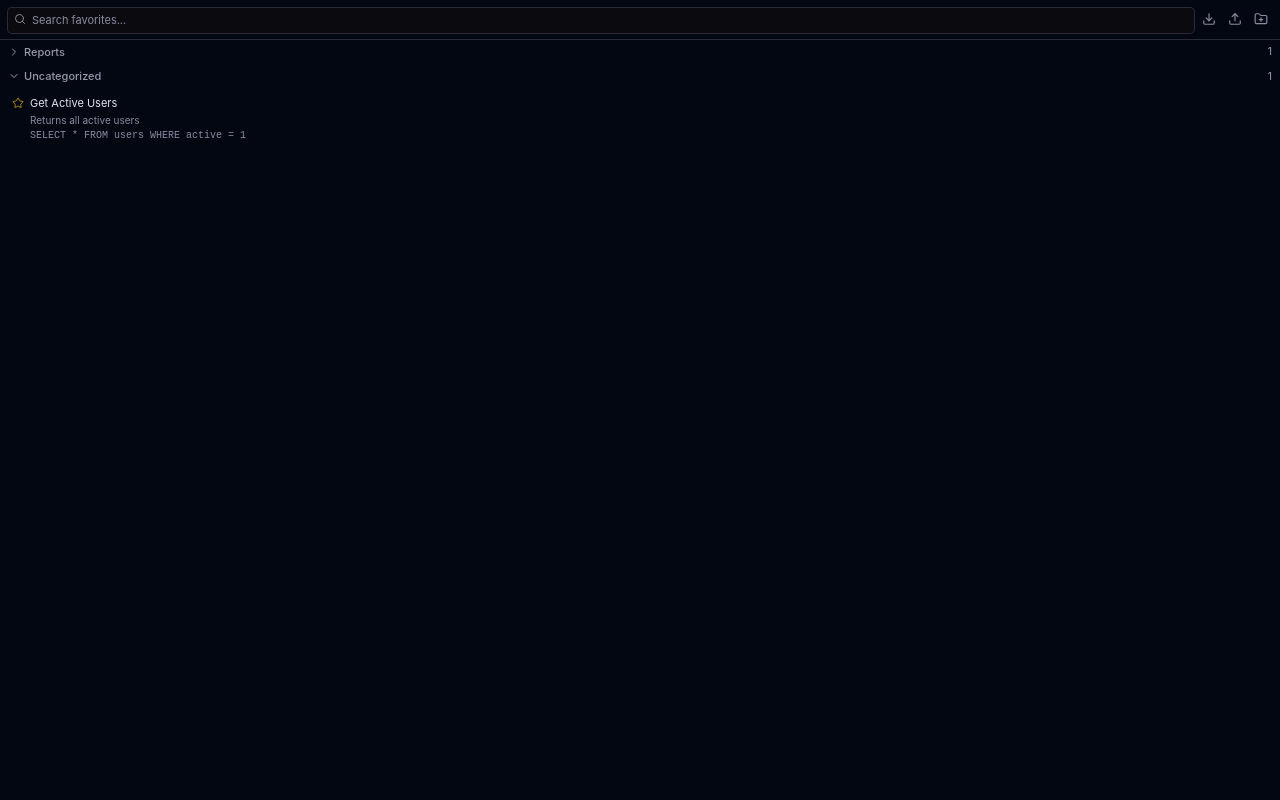
Test: QueryFavorites › confirms before replacing a dirty query tab
What coordinates should you click on to do the following:
click the text "Get Active Users"
I would click on:
 (74, 103)
Its box is [30,94,117,111].
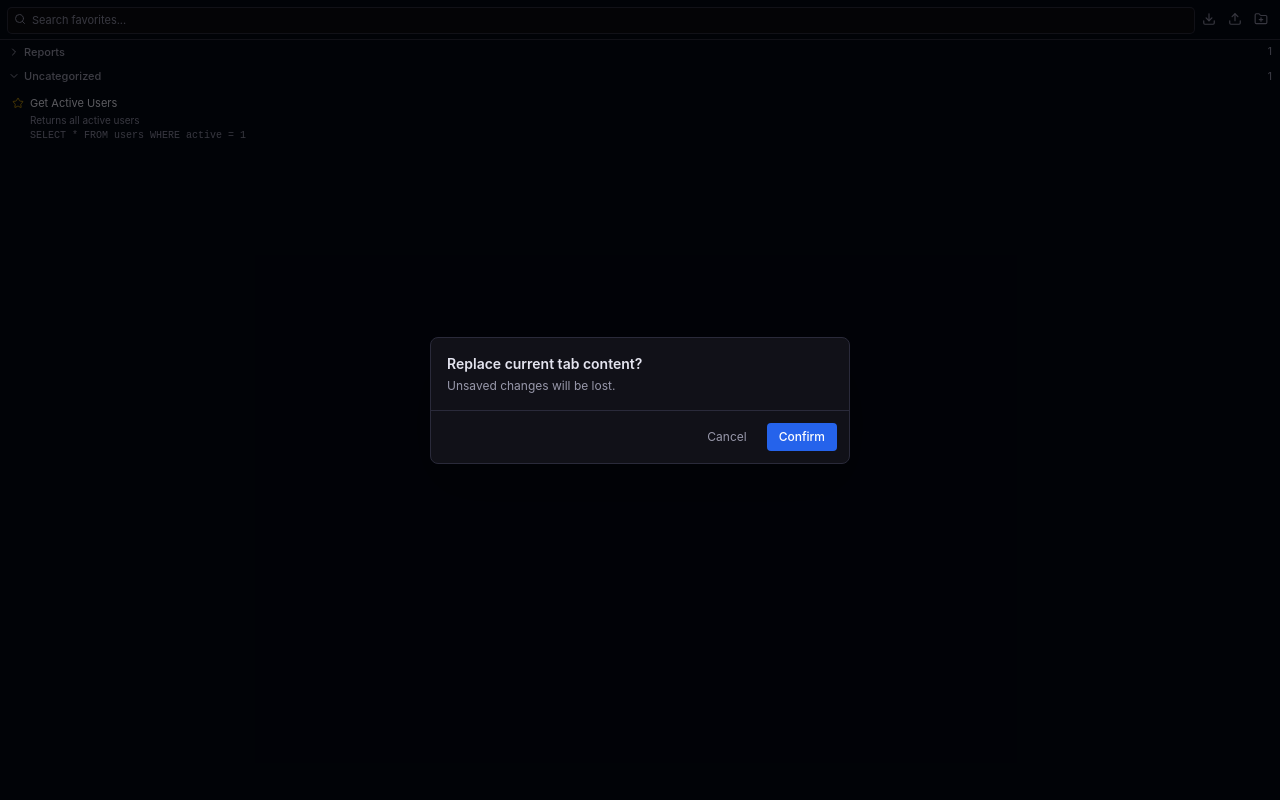
Now the heading "Replace current tab content?" is shown, box [447,354,642,372]
Now the text "Unsaved changes will be lost." is shown, box [447,378,616,392]
What coordinates should you click on to do the following:
click the button "Confirm"
I would click on:
 (802, 436)
Its box is [767,422,837,450].
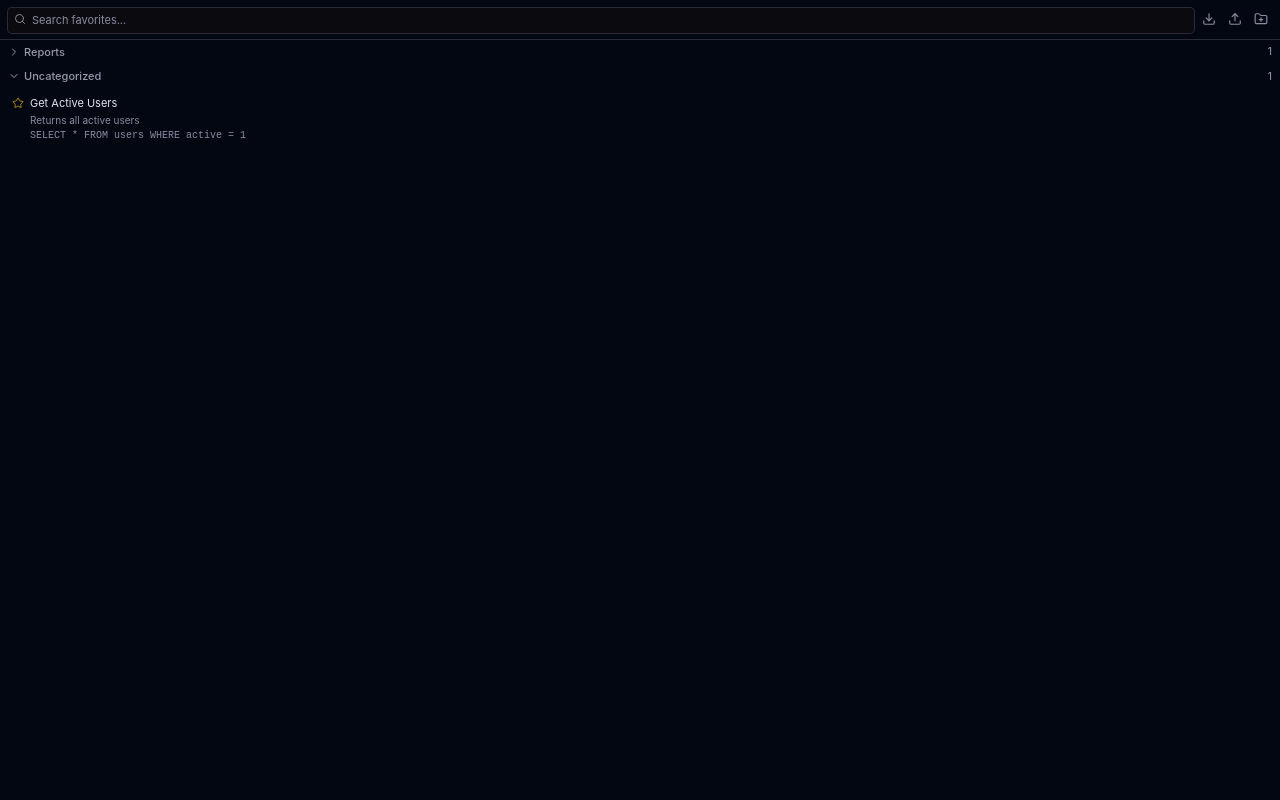
Now the text "Unsaved changes will be lost." is gone
